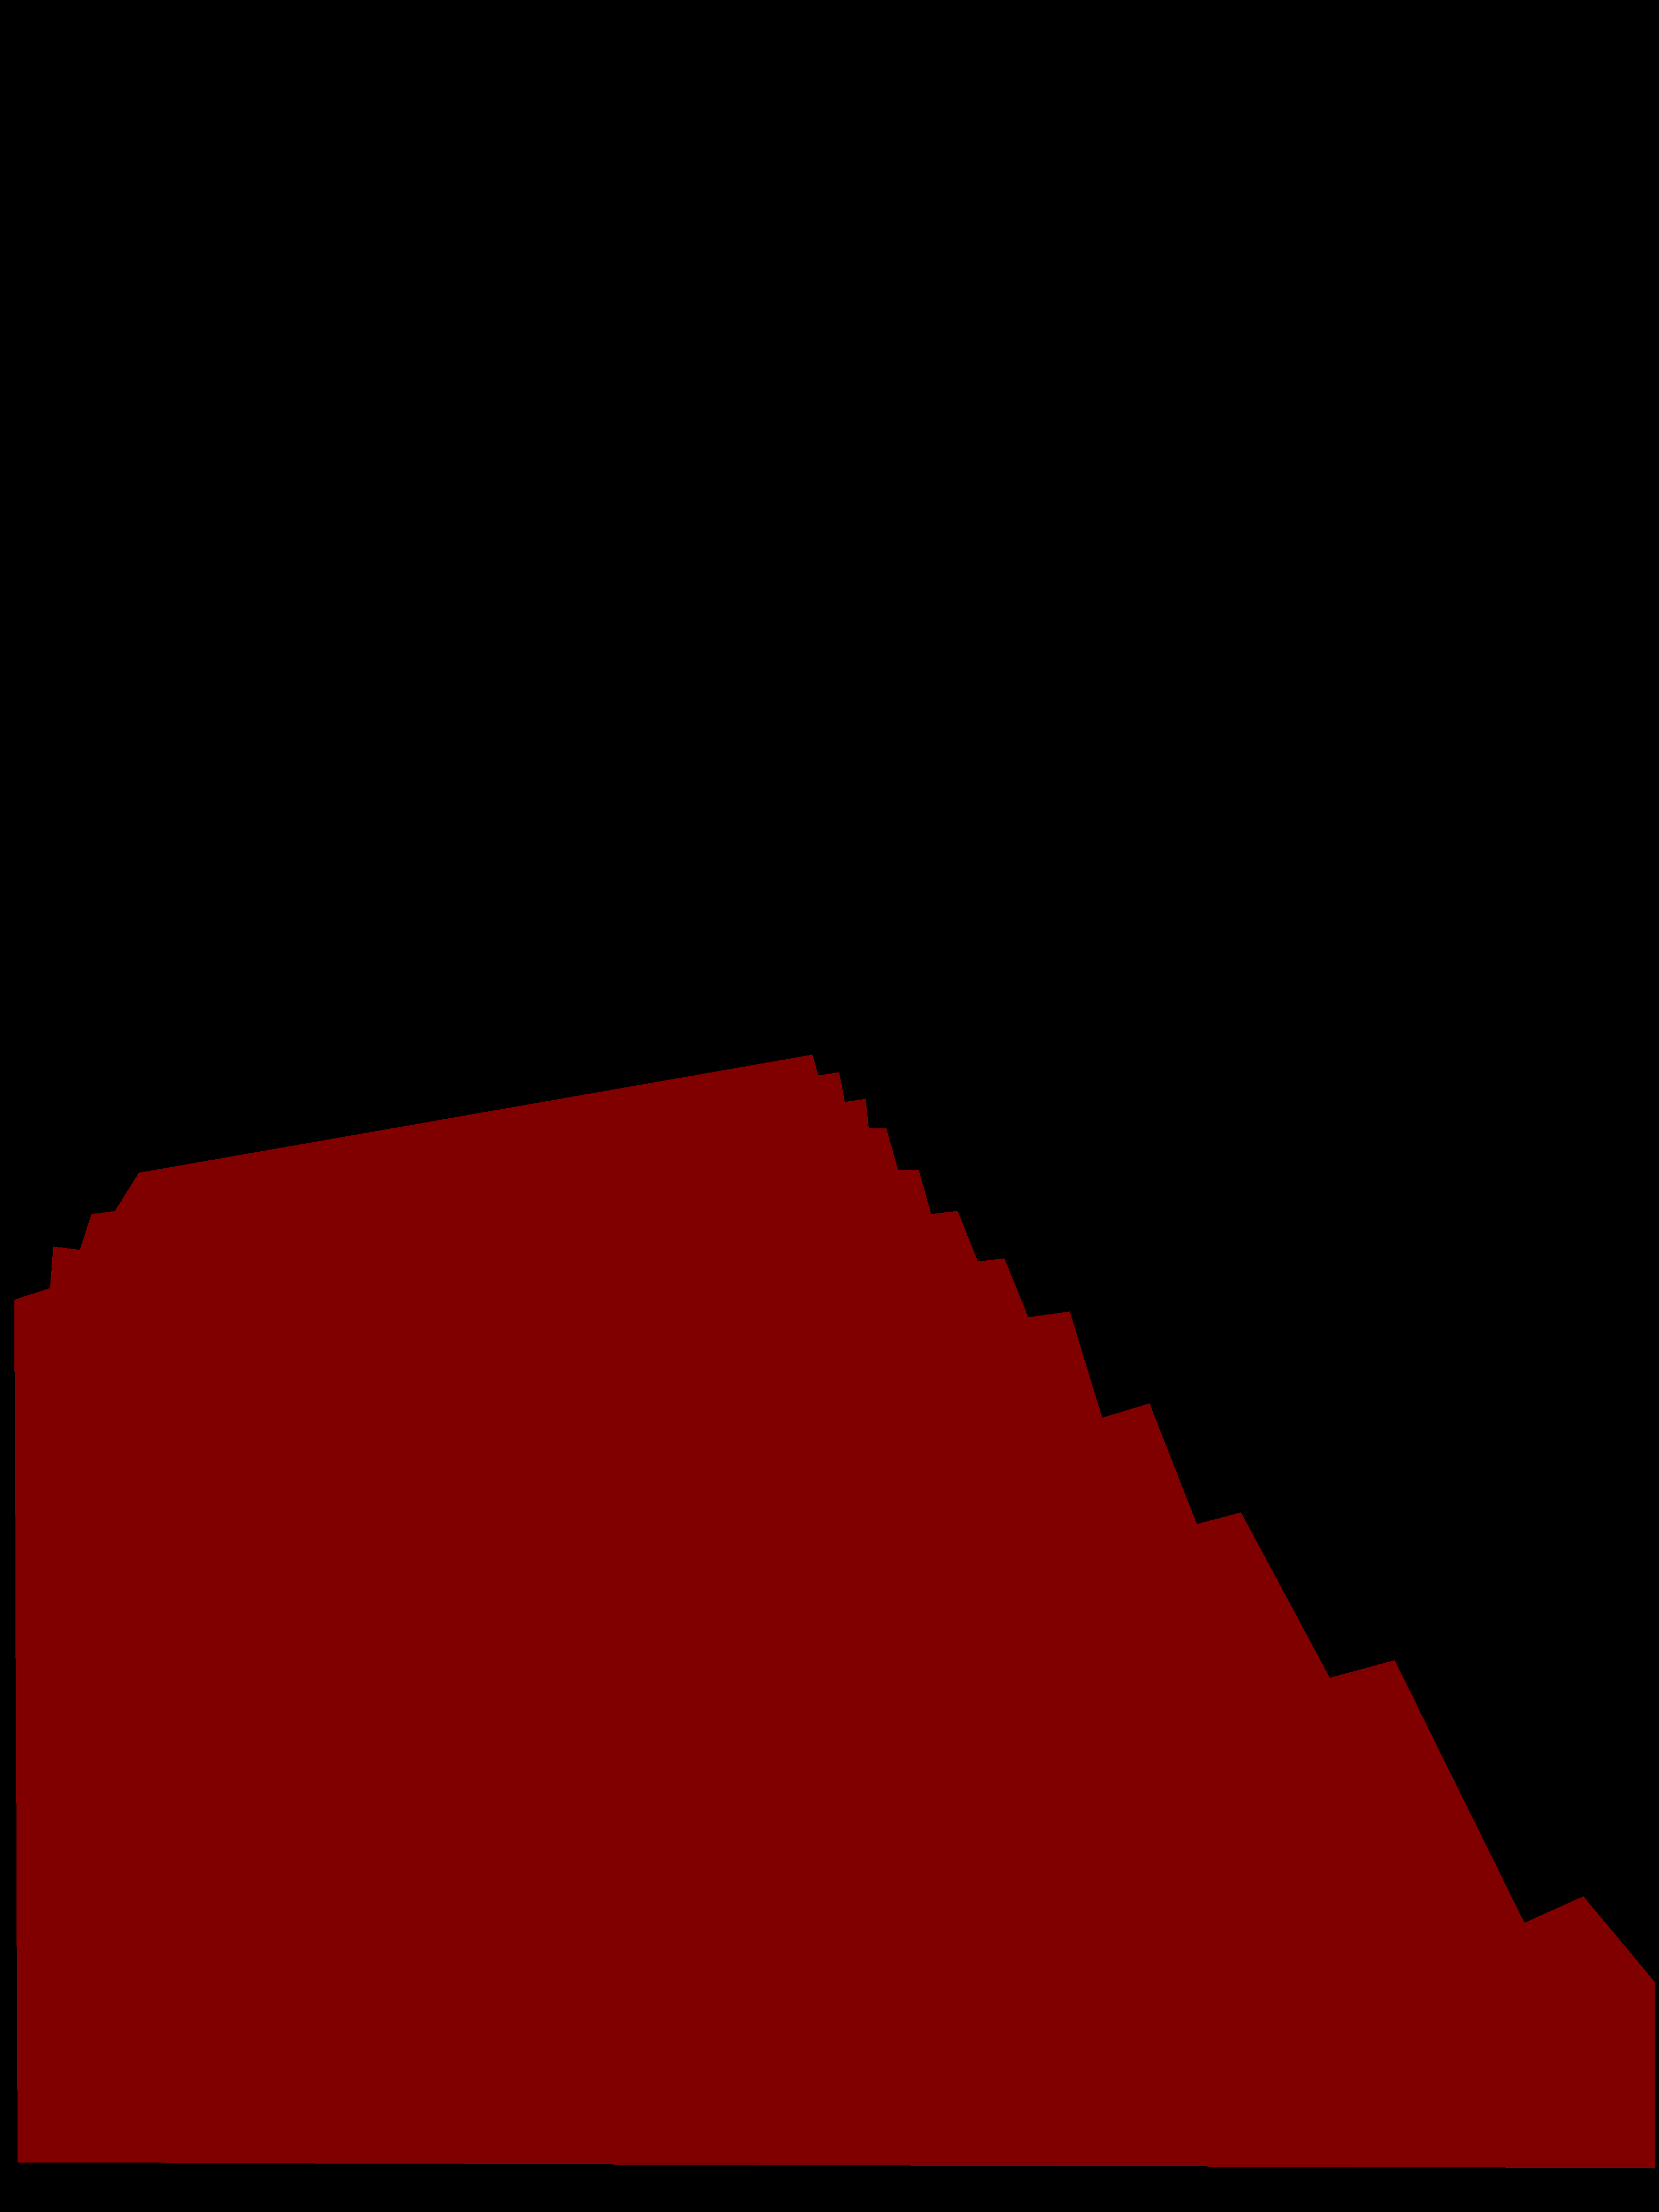stair: (14, 1054, 1654, 2168)
